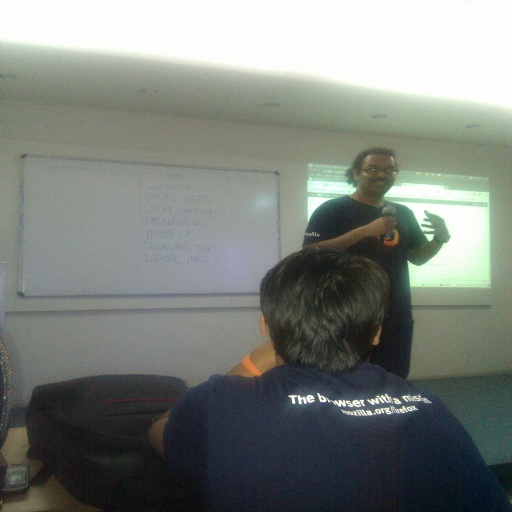hand: (254, 336, 287, 370), (416, 207, 450, 237), (363, 215, 398, 239)
